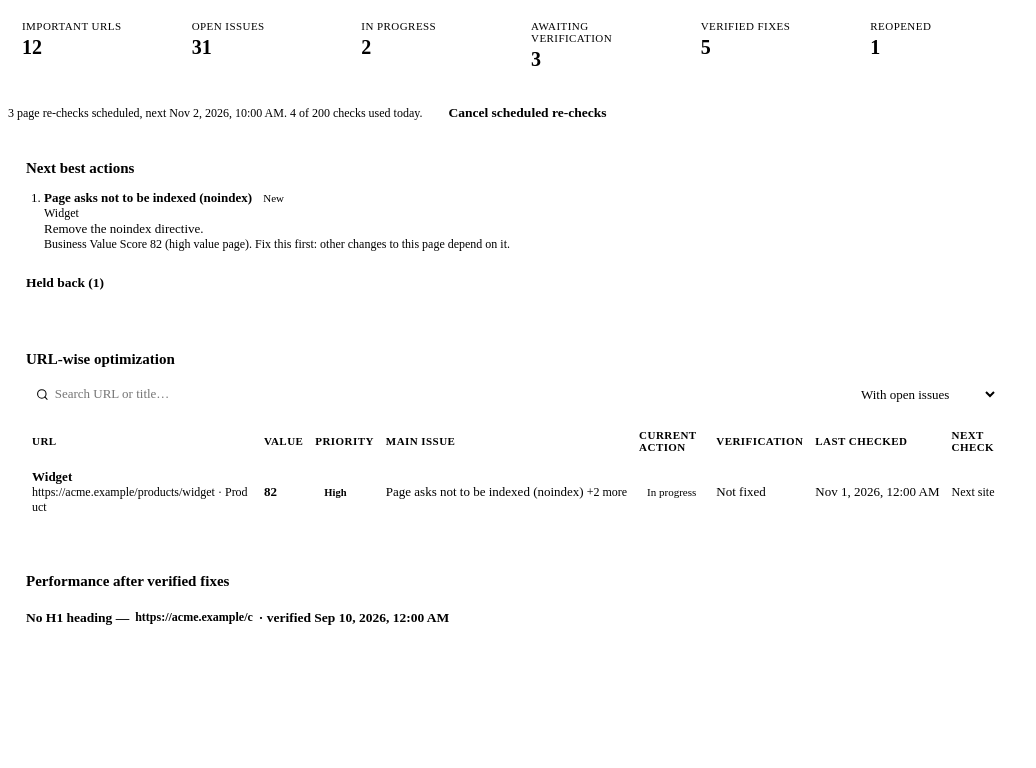
content › next best actions explain why, and held-back actions say why they aren't repeated
Expected: the text "Page asks not to be indexed (noindex)" is shown, [44,190,252,205]
Expected: the text "depend on it" is shown, [44,237,510,251]
Click the heading "Held back (1)" at {"x": 65, "y": 282}, box [26,275,104,290]
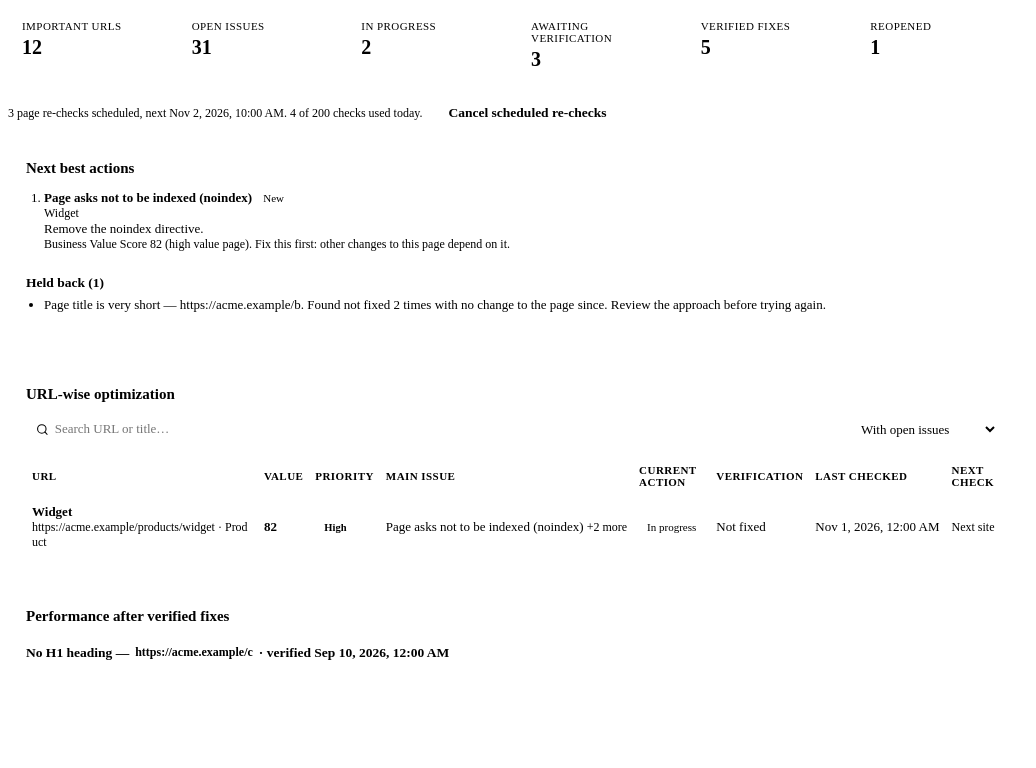
Result: the list item "review the approach" is shown at [307,297,826,312]
